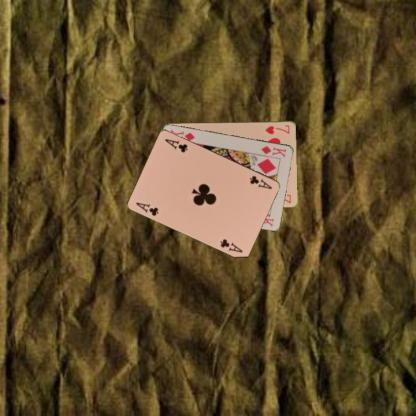7h: (263, 122, 291, 136)
Ac: (248, 172, 274, 190), (134, 200, 160, 218)
Kd: (258, 144, 288, 158)
